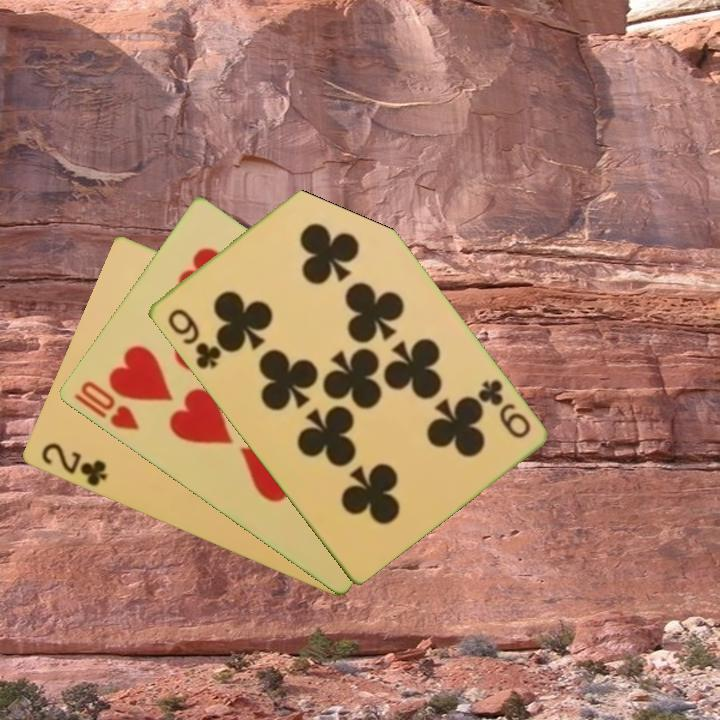10h: (70, 377, 142, 434)
2c: (37, 439, 110, 490)
9c: (163, 305, 224, 372), (473, 376, 533, 442)
